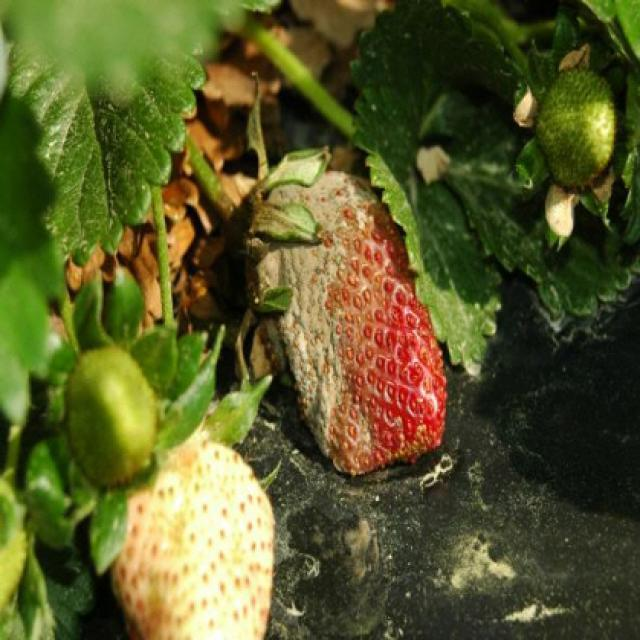Gray Mold: (246, 145, 450, 477)
